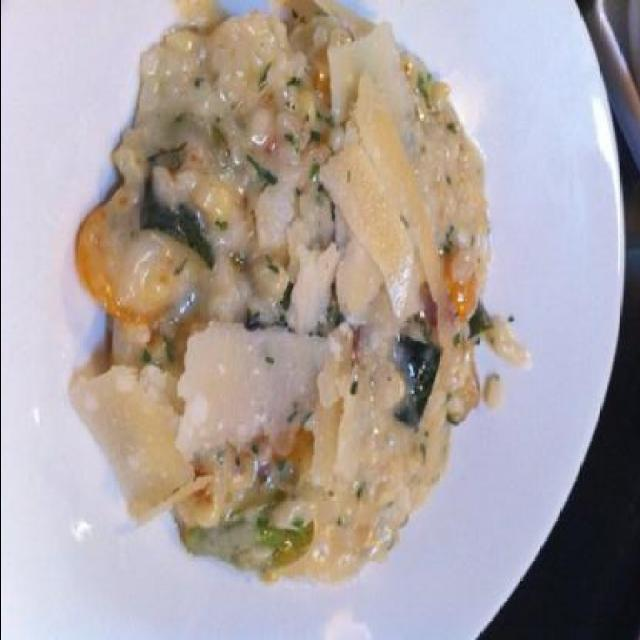Risotto: (78, 19, 500, 602)
